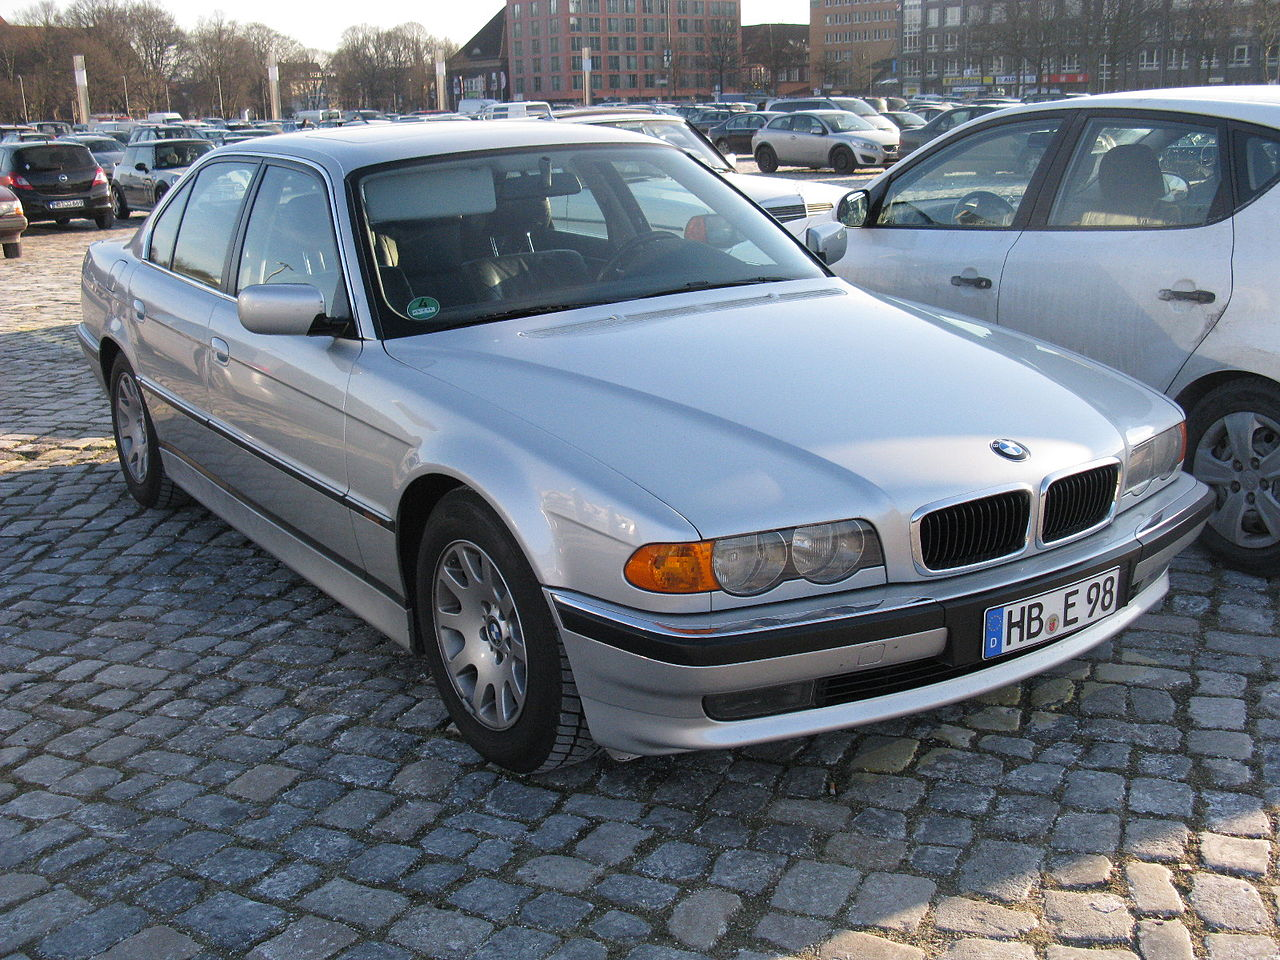plate: (981, 566, 1121, 662)
